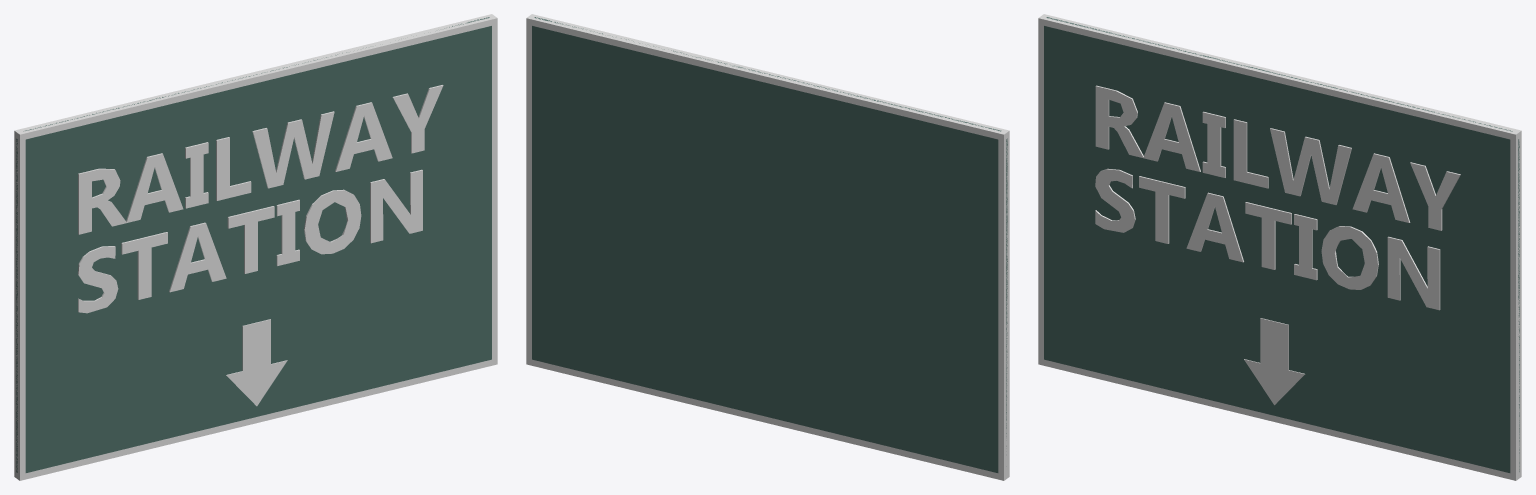
Rendered from SM_FloorProps_RoadSign_40.fbx.
The picture shows the model from 3 angles, left to right: view 1: azimuth 30°, elevation 25°; view 2: azimuth 150°, elevation 25°; view 3: azimuth 330°, elevation 25°; orthographic projection.
Visible parts, largest first — view 1: SM_FloorProps_RoadSign_40; view 2: SM_FloorProps_RoadSign_40; view 3: SM_FloorProps_RoadSign_40.
Boxes of the visible parts, left/top/right/bottom form: SM_FloorProps_RoadSign_40: left=14, top=14, right=497, bottom=480; SM_FloorProps_RoadSign_40: left=526, top=14, right=1009, bottom=480; SM_FloorProps_RoadSign_40: left=1038, top=14, right=1521, bottom=480.
Bounding box in the file's own units: 2.33 × 1.61 × 0.0549.
